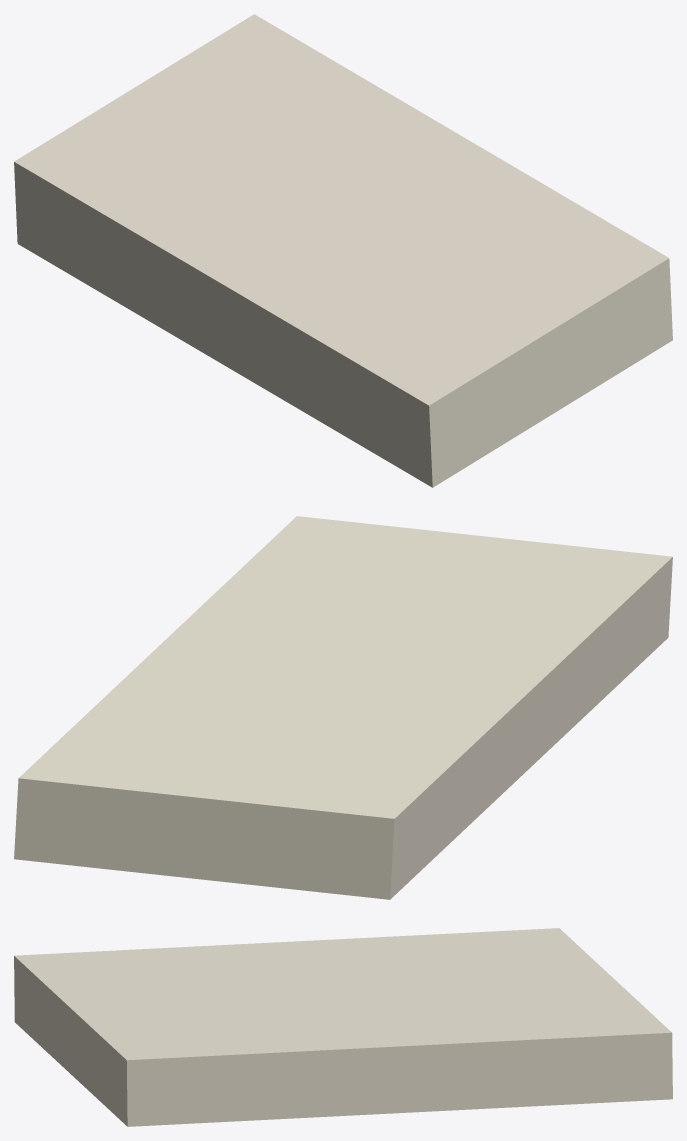
The picture shows the model from 3 angles, top to bottom: view 1: azimuth 30°, elevation 25°; view 2: azimuth 150°, elevation 25°; view 3: azimuth 270°, elevation 25°; orthographic projection. The views are drawn at different scales.
Parts seen in each view (by area): view 1: ZA_b931df985d73274a; view 2: ZA_b931df985d73274a; view 3: ZA_b931df985d73274a.
Part boxes in pixels (x1=…): ZA_b931df985d73274a: x1=14, y1=14, x2=672, y2=487; ZA_b931df985d73274a: x1=14, y1=516, x2=672, y2=899; ZA_b931df985d73274a: x1=14, y1=928, x2=672, y2=1126.
Bounding box in the file's own units: 0.00239 × 0.00063 × 0.00458.
